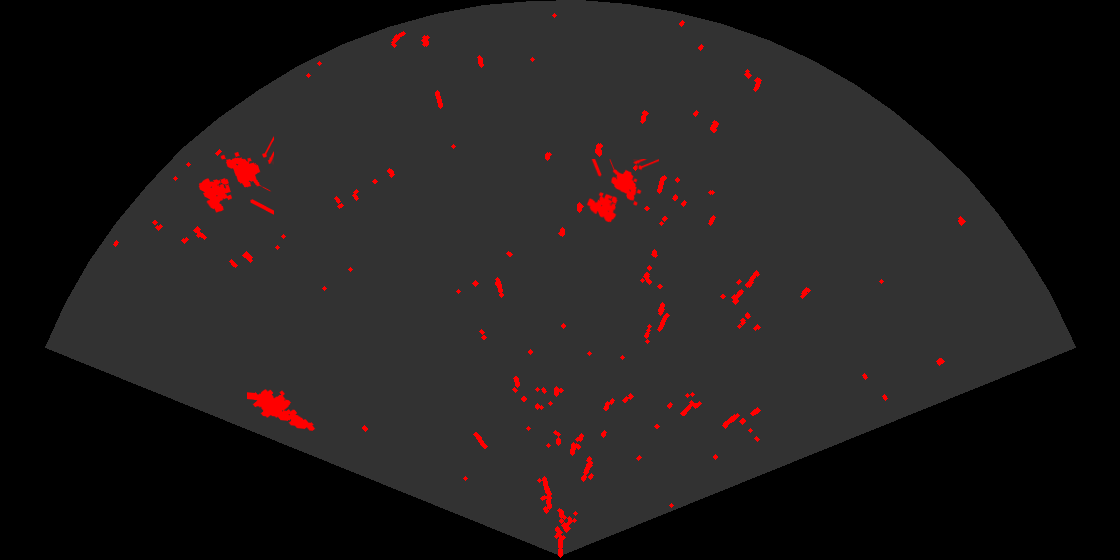cage: (197, 135, 274, 216), (585, 159, 659, 224)
frogman: (247, 388, 317, 432)
